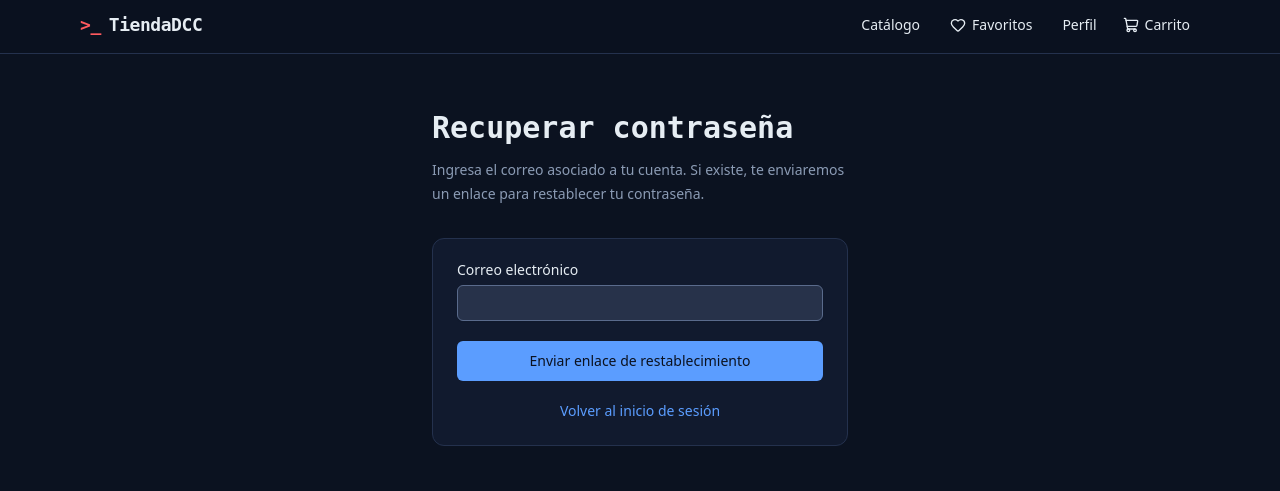
Test: ForgotPasswordPage › validates invalid email, shows field error, and focuses the field
The width and height of the screenshot is (1280, 491).
Type "invalid" into the field labelled "Correo electrónico" at (640, 303), box [457,285,823,321]
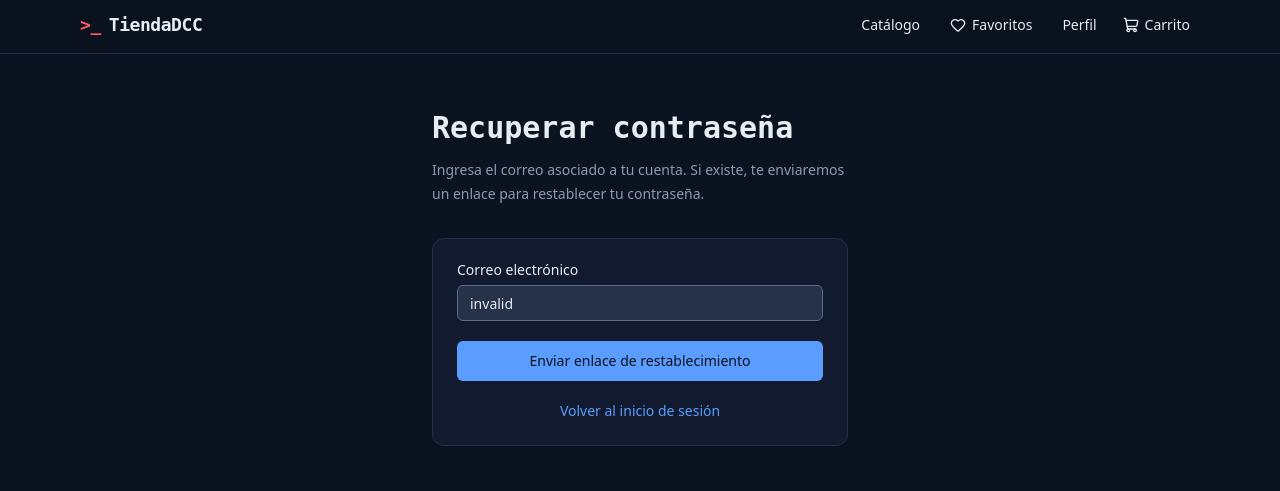
Click the button "Enviar enlace de restablecimiento" at (640, 361), box [457,341,823,381]
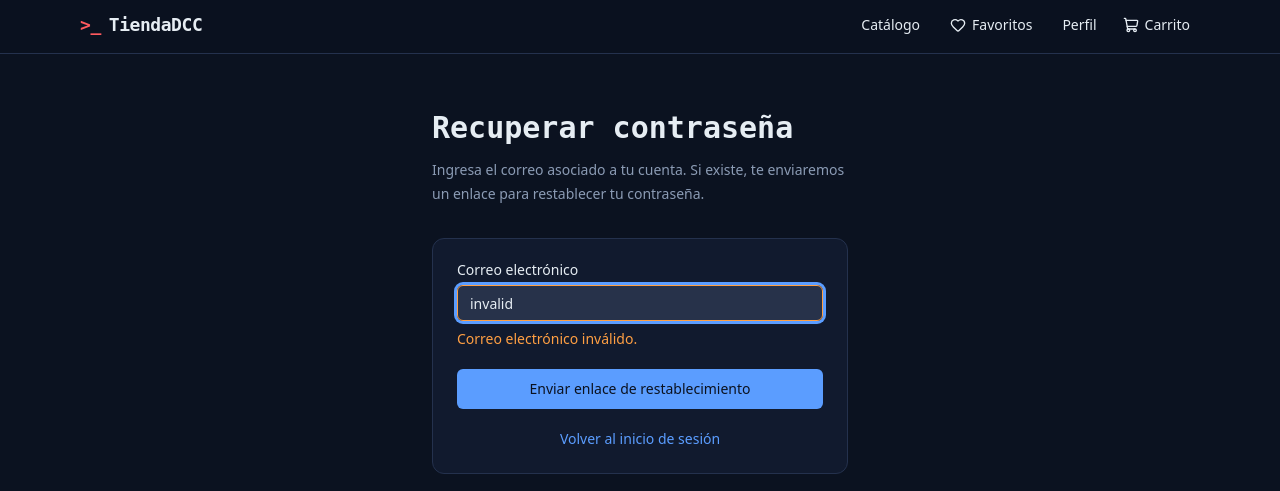
Expected: the text "Correo electrónico inválido." is shown, [457,329,637,348]
